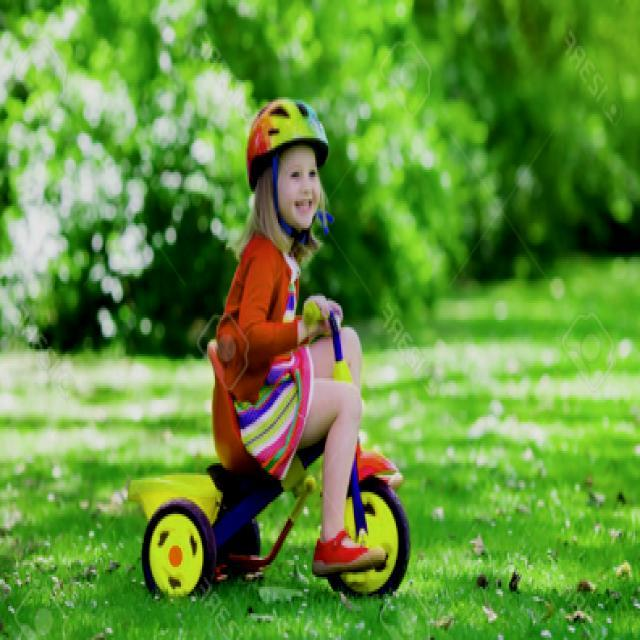Helmet: (242, 87, 334, 257)
